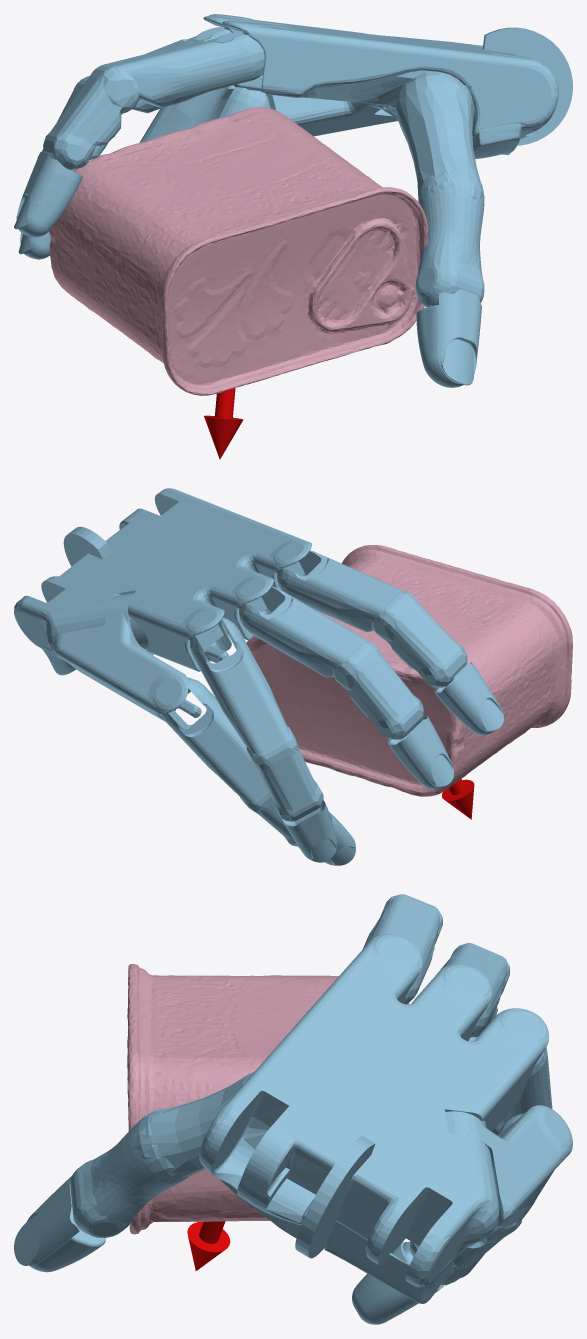
3 views of the same model, one above another, from view 1: azimuth 30°, elevation 25°; view 2: azimuth 150°, elevation 25°; view 3: azimuth 270°, elevation 25° (orthographic). The views are drawn at different scales.
Parts seen in each view (by area): view 1: potted_meat_can.stl, world; view 2: world, potted_meat_can.stl; view 3: world, potted_meat_can.stl.
Part boxes in pixels (x1=…): potted_meat_can.stl: x1=49, y1=107, x2=428, y2=395; world: x1=14, y1=14, x2=572, y2=459; world: x1=14, y1=488, x2=503, y2=865; potted_meat_can.stl: x1=246, y1=545, x2=572, y2=796; world: x1=14, y1=894, x2=572, y2=1324; potted_meat_can.stl: x1=127, y1=964, x2=409, y2=1234.
Size of the model in its own units: 0.2045 by 0.1313 by 0.1651.
